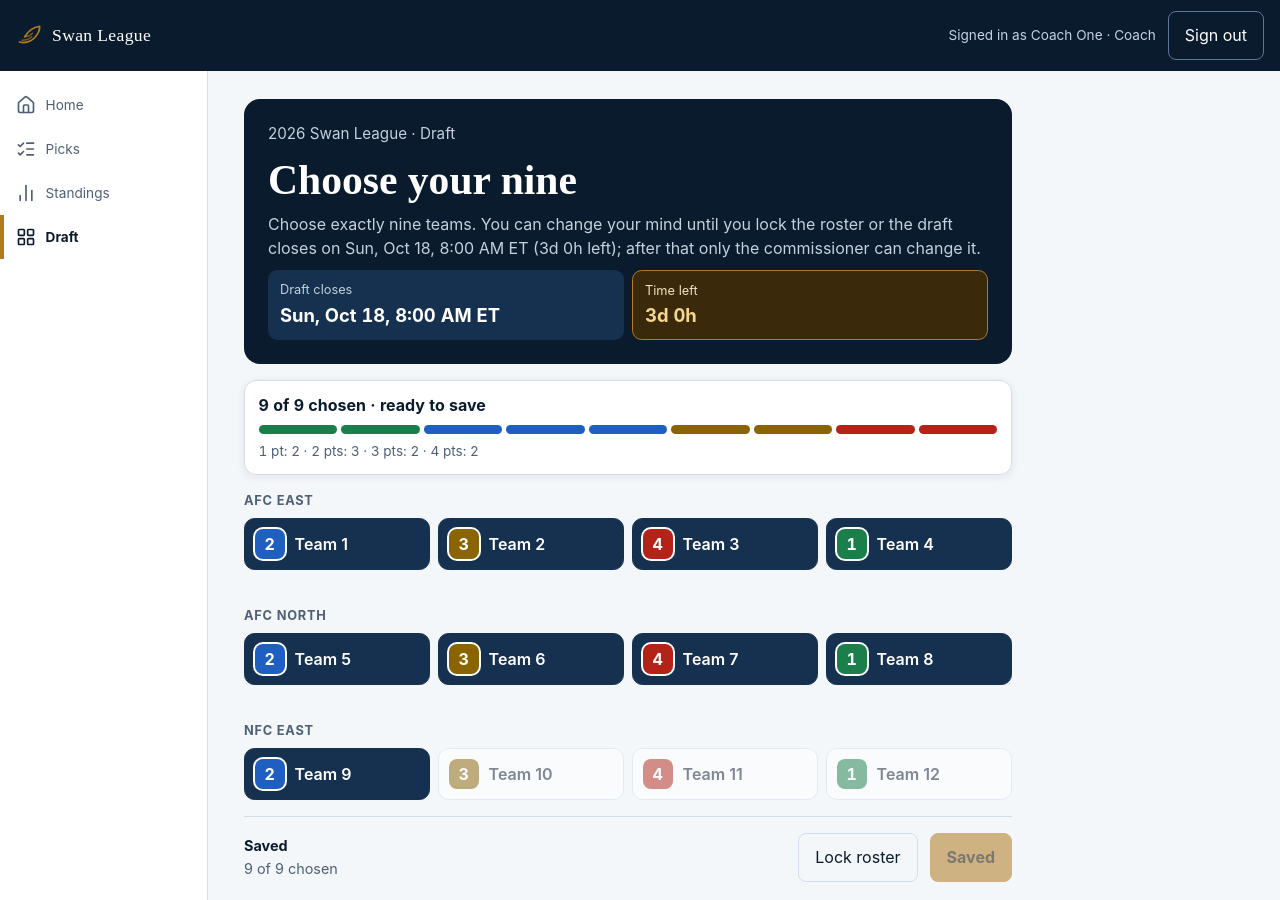
Test: the lock is not offered while there are unsaved changes
Click the button "2 Team 9" at (337, 774), box [244,748,430,800]
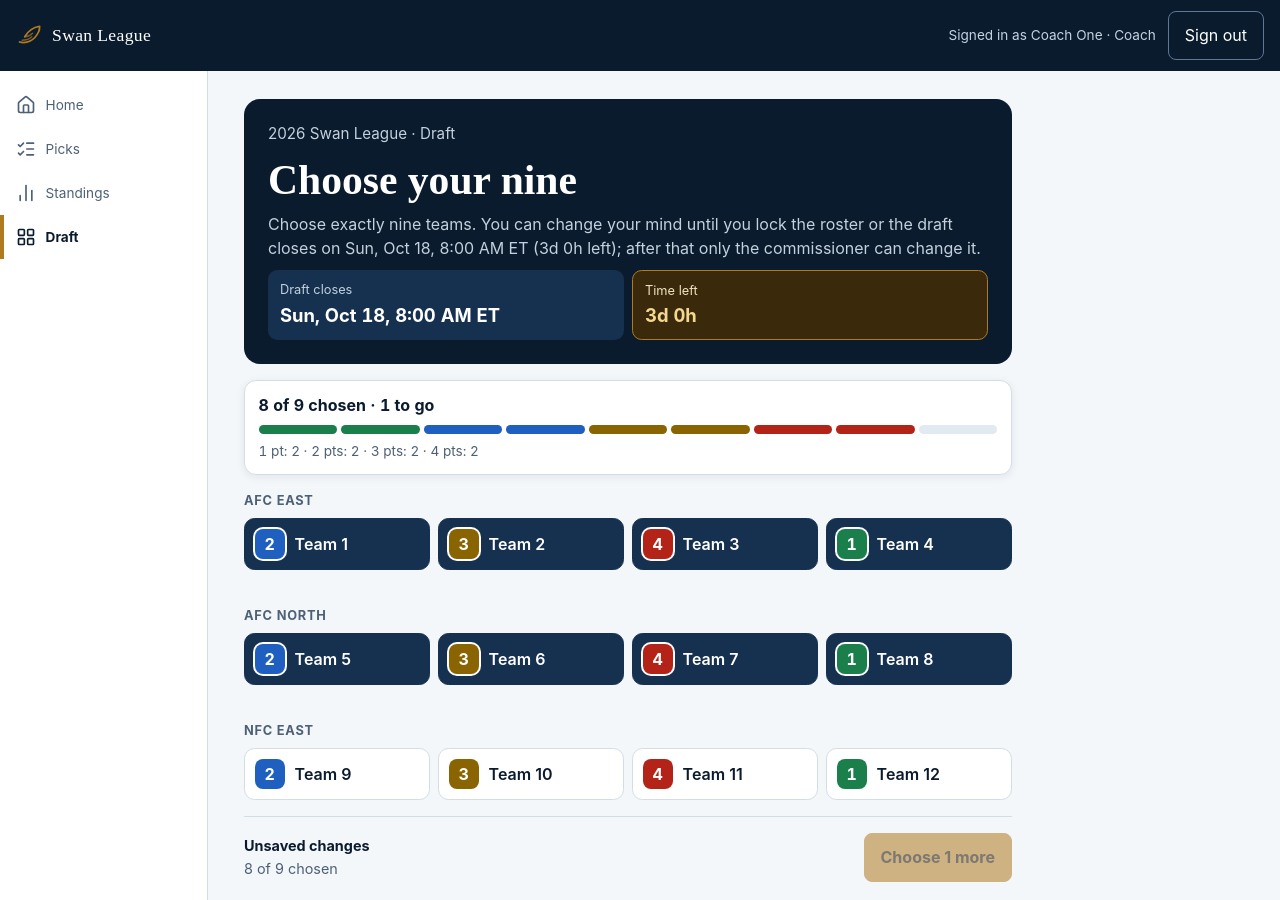
Check: the button "Lock roster" is gone
Check: the text "Unsaved changes" is shown, box [244,837,370,854]
